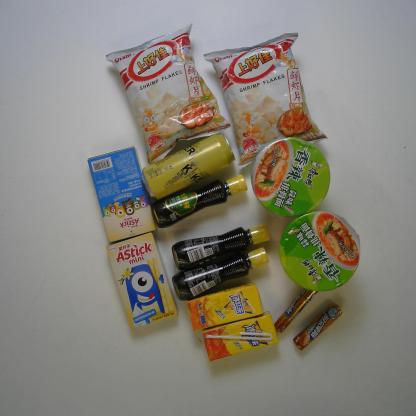Alcohol: (139, 131, 237, 204)
Candy: (293, 302, 343, 351), (273, 288, 319, 333)
Dessert: (106, 231, 180, 329), (87, 145, 160, 244)
Drink: (201, 309, 279, 362), (186, 281, 264, 332)
Instant Noodles: (278, 209, 362, 293), (249, 135, 332, 218)
Puffed Food: (200, 30, 329, 172), (103, 22, 232, 163)
Seasoner: (152, 172, 249, 230), (171, 247, 270, 302), (170, 222, 273, 271)
